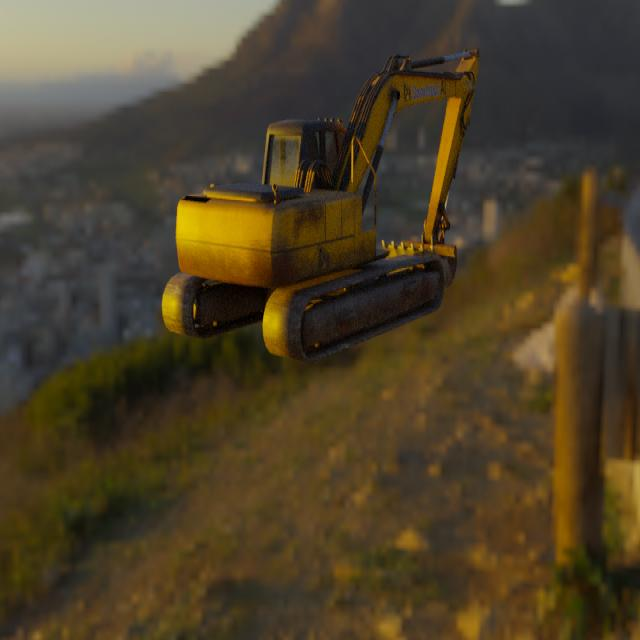excavator: (161, 46, 479, 362)
